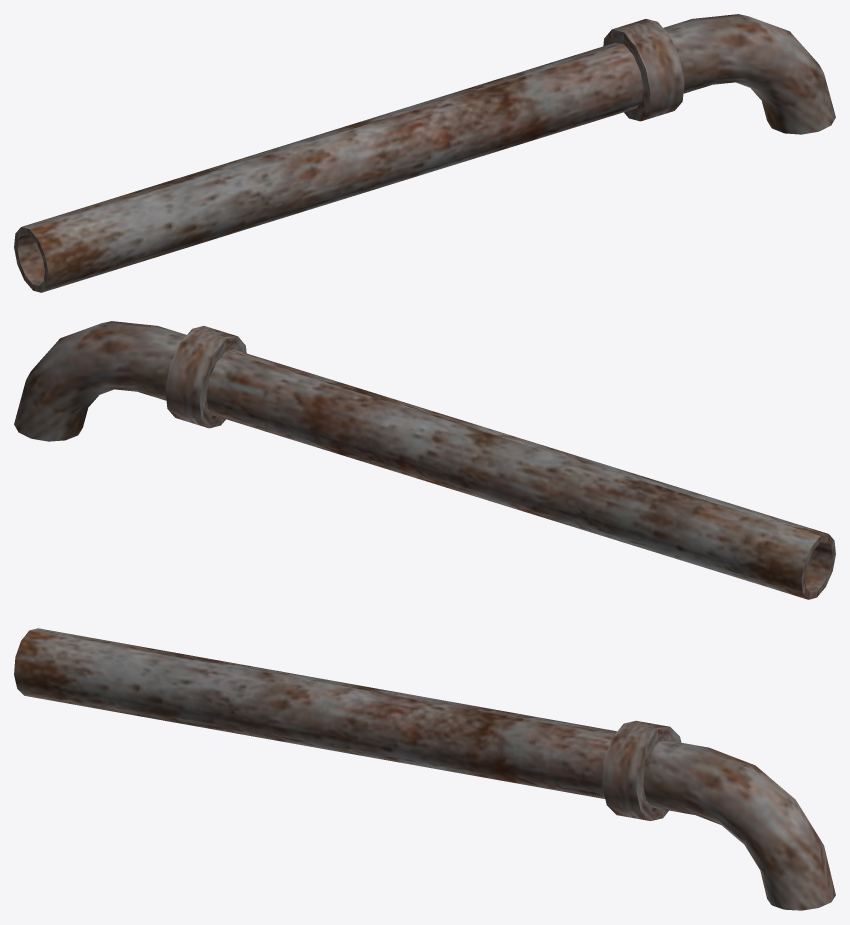
The model's file is pipe.glb.
The picture shows the model from 3 angles, top to bottom: view 1: azimuth 30°, elevation 25°; view 2: azimuth 150°, elevation 25°; view 3: azimuth 330°, elevation 25°; orthographic projection.
Visible parts, largest first — view 1: tool; view 2: tool; view 3: tool.
Part boxes in pixels (x1=…): tool: x1=14, y1=14, x2=835, y2=292; tool: x1=14, y1=321, x2=835, y2=599; tool: x1=14, y1=628, x2=835, y2=910.
Size of the model in its own units: 0.5367 by 0.0859 by 0.0559.
Materials: 1 (1 with a texture image).
